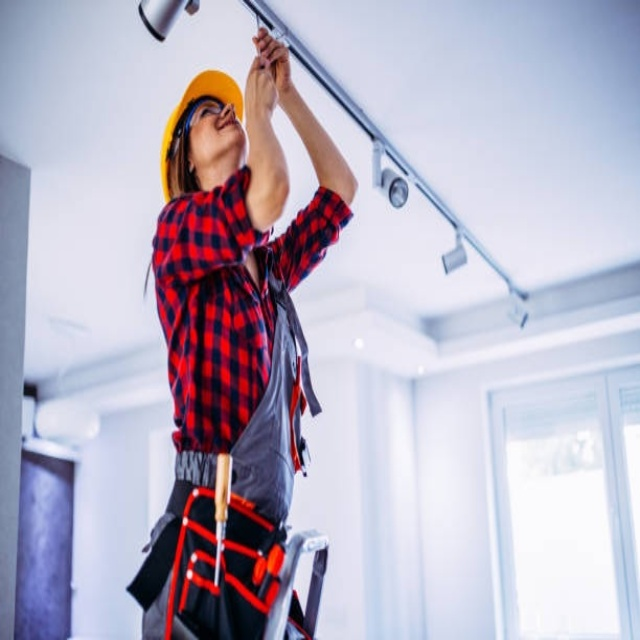Gafas: (184, 97, 222, 141)
Sin_guantes: (241, 24, 299, 97)
Sin_mascara: (216, 110, 245, 144)
